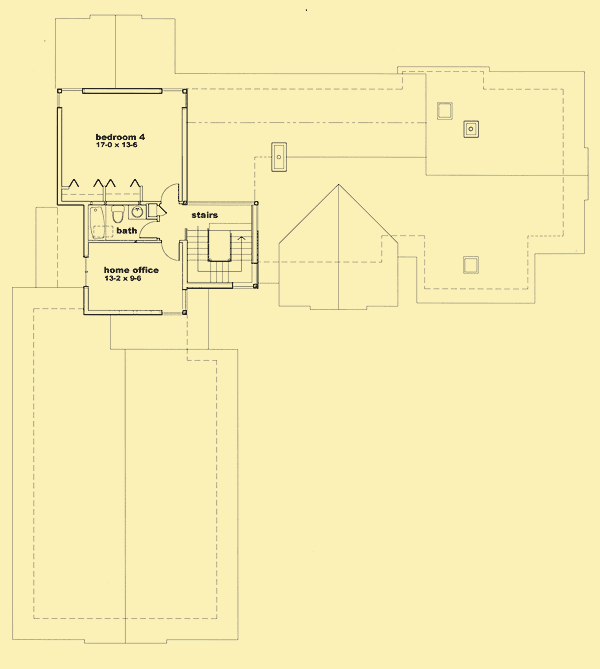door: (160, 240, 186, 262), (159, 182, 184, 204), (136, 219, 158, 240)
large_sink: (108, 202, 126, 226)
small_sink: (127, 204, 148, 222)
stairs: (184, 222, 256, 290)
tub: (85, 202, 109, 243)
